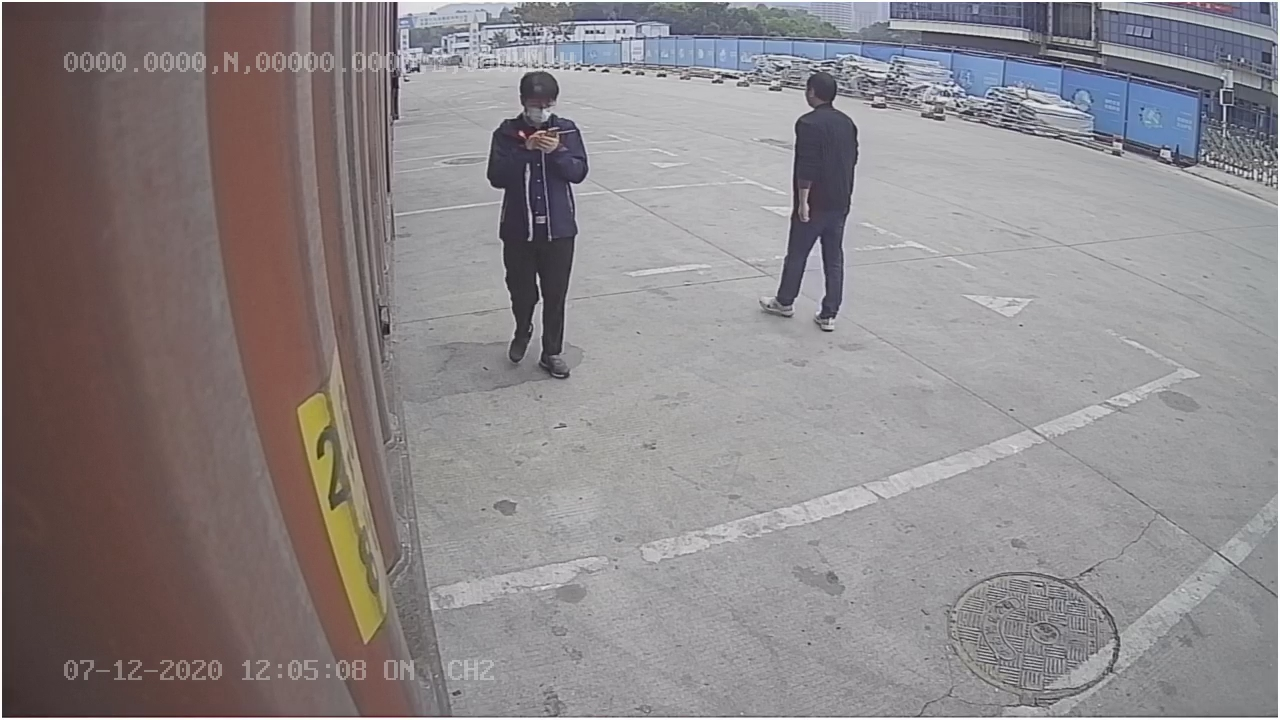person: (478, 66, 591, 383), (757, 72, 868, 334)
